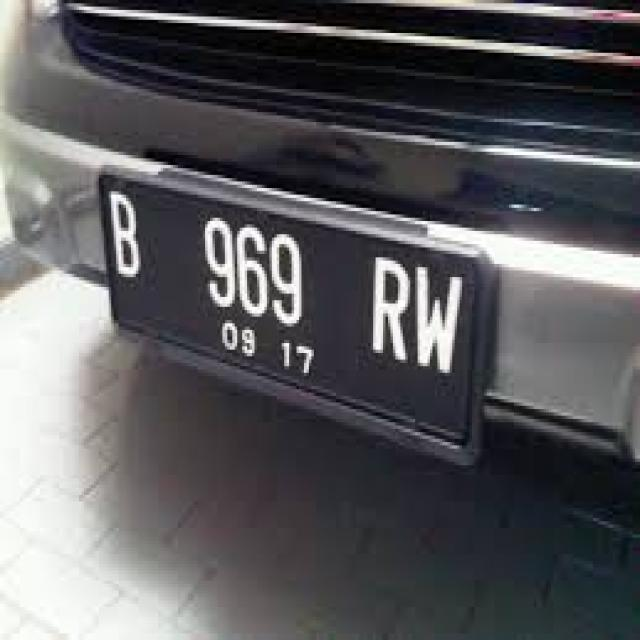license-plat: (90, 149, 518, 489)
